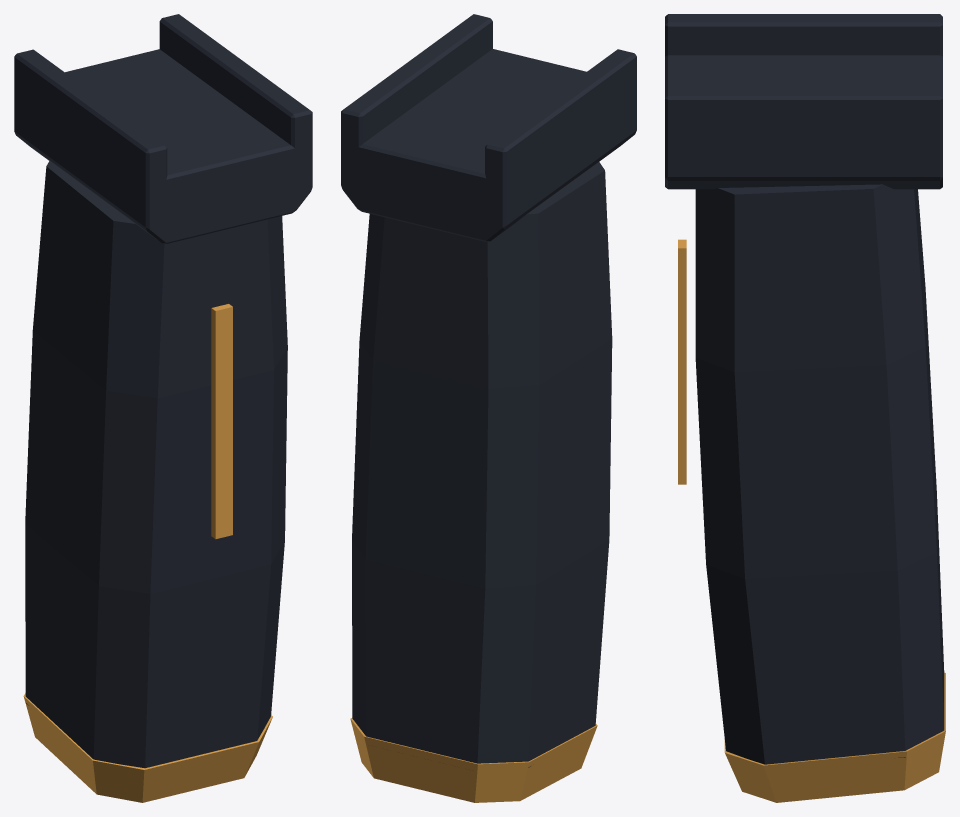
Rendered from vertical.glb.
The picture shows the model from 3 angles, left to right: view 1: azimuth 30°, elevation 25°; view 2: azimuth 150°, elevation 25°; view 3: azimuth 270°, elevation 25°; orthographic projection. The views are drawn at different scales.
Parts seen in each view (by area): view 1: vertical_grip, vertical_clamp, vertical_cap, vertical_groove; view 2: vertical_grip, vertical_clamp, vertical_cap; view 3: vertical_grip, vertical_clamp, vertical_cap, vertical_groove.
Boxes of the visible parts, <box> form: vertical_grip: <box>25,161,287,768</box>; vertical_clamp: <box>14,14,312,243</box>; vertical_cap: <box>23,693,272,802</box>; vertical_groove: <box>211,304,232,539</box>; vertical_grip: <box>352,162,612,767</box>; vertical_clamp: <box>341,14,636,241</box>; vertical_cap: <box>350,718,597,802</box>; vertical_grip: <box>695,184,944,764</box>; vertical_clamp: <box>665,14,942,189</box>; vertical_cap: <box>724,672,945,802</box>; vertical_groove: <box>678,239,686,484</box>.
Bounding box in the file's own units: 0.0256 × 0.0903 × 0.0323.
